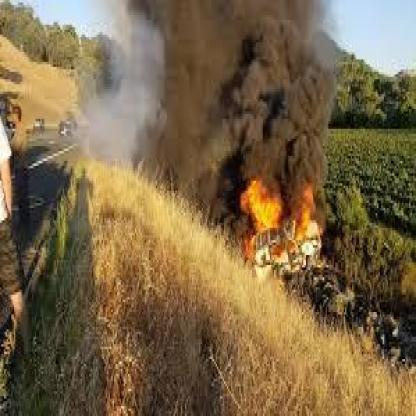fire: (241, 178, 313, 242)
smoke: (128, 0, 331, 193)
